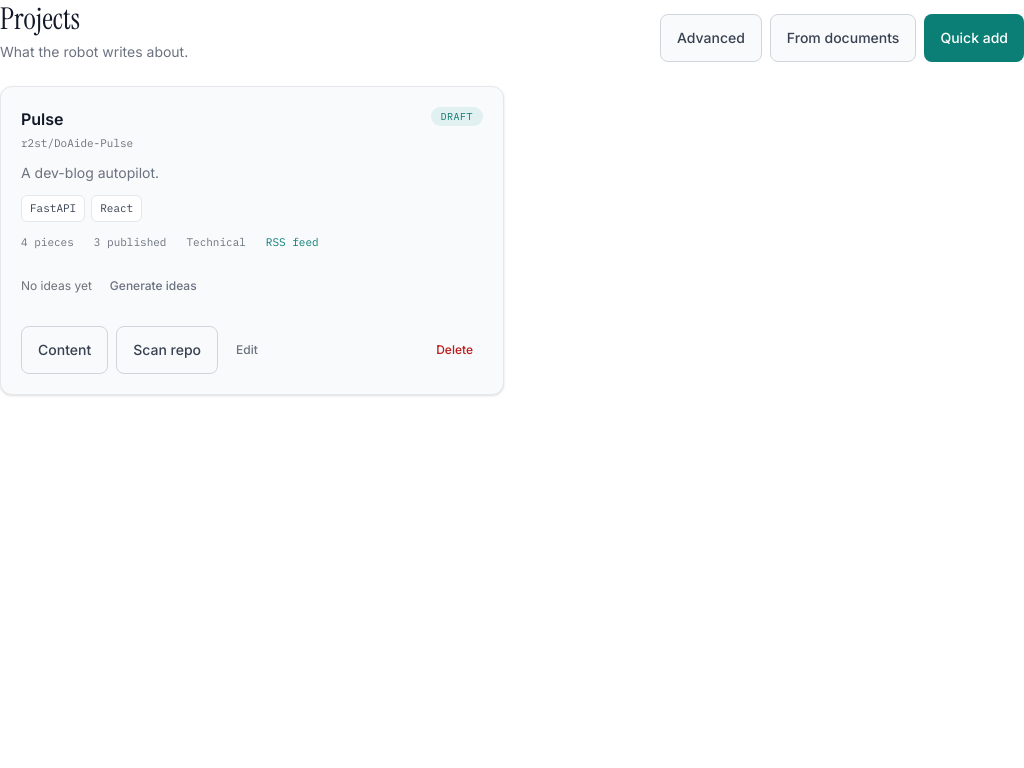
Test case: the add/edit dialog › opens the full dialog from the Advanced button when projects already exist
The width and height of the screenshot is (1024, 768).
Expected: the heading "Pulse" is shown, [21,108,64,128]
Click the button "Advanced".
click(711, 38)  # box [660,14,762,62]
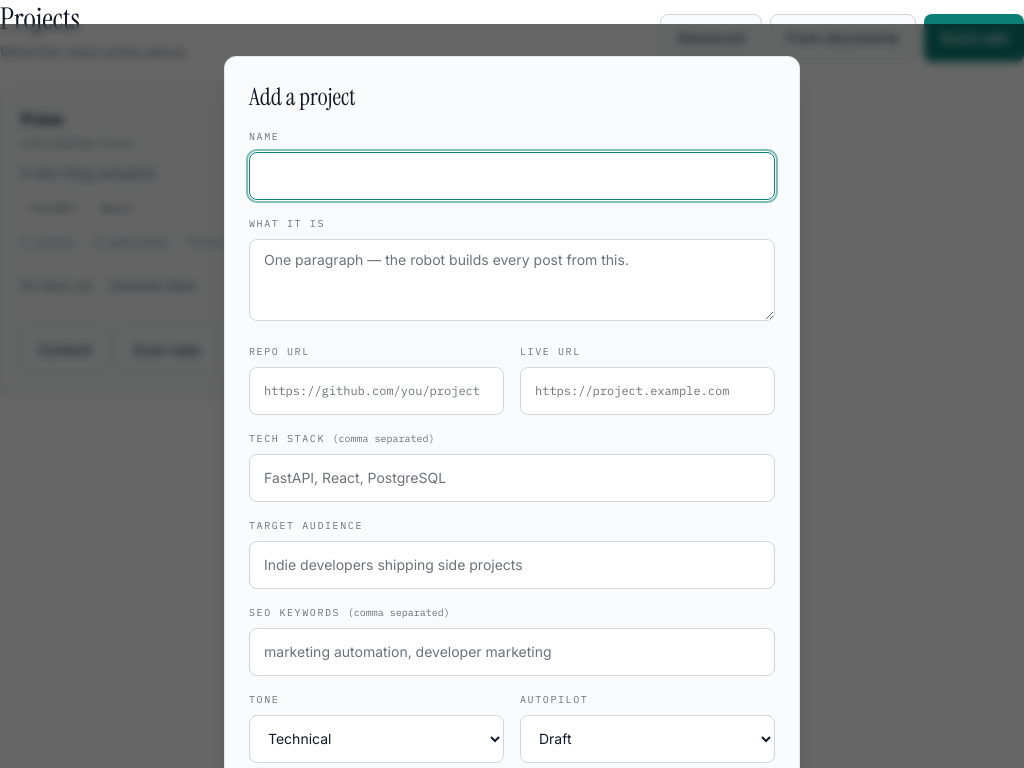
Now the heading "Add a project" is shown, box [249,81,356,112]
Now the field labelled "Name" is empty, box [249,152,775,200]
